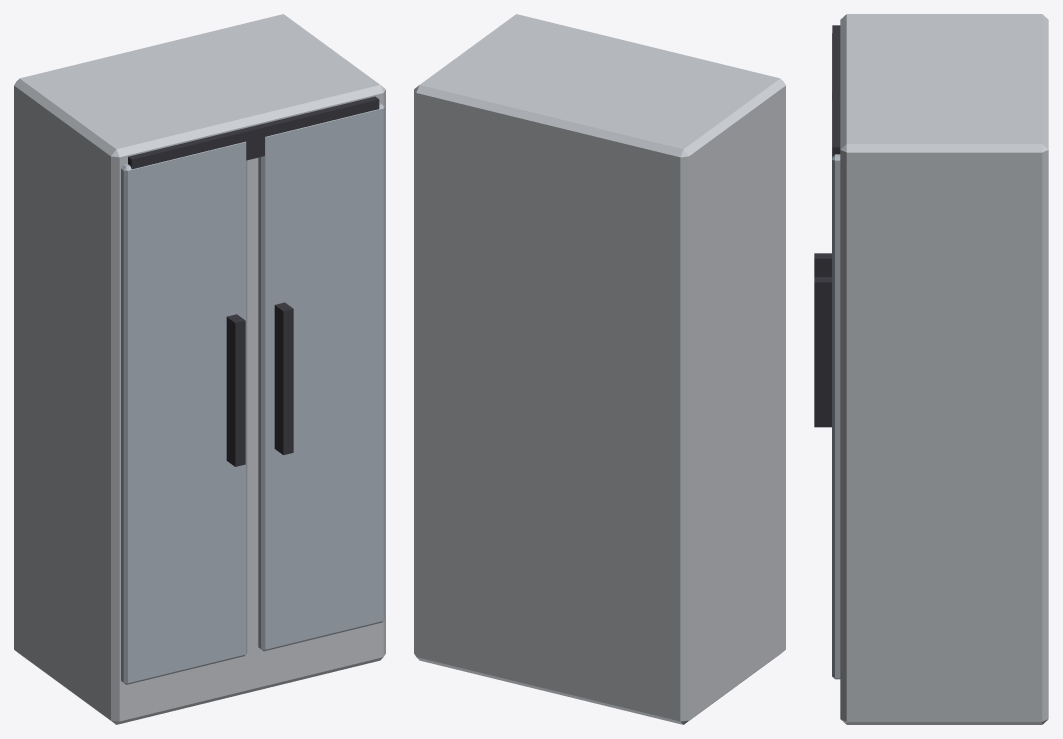
The model's file is CommercialFridge.fbx.
The picture shows the model from 3 angles, left to right: view 1: azimuth 30°, elevation 25°; view 2: azimuth 150°, elevation 25°; view 3: azimuth 270°, elevation 25°; orthographic projection.
Visible parts, largest first — view 1: CommercialFridge; view 2: CommercialFridge; view 3: CommercialFridge.
Part boxes in pixels (bbox=[...]): CommercialFridge: bbox=[14, 14, 385, 724]; CommercialFridge: bbox=[414, 14, 785, 724]; CommercialFridge: bbox=[814, 14, 1048, 724].
Bounding box in the file's own units: 4 × 8 × 2.92.
1 material, 1 textured.
